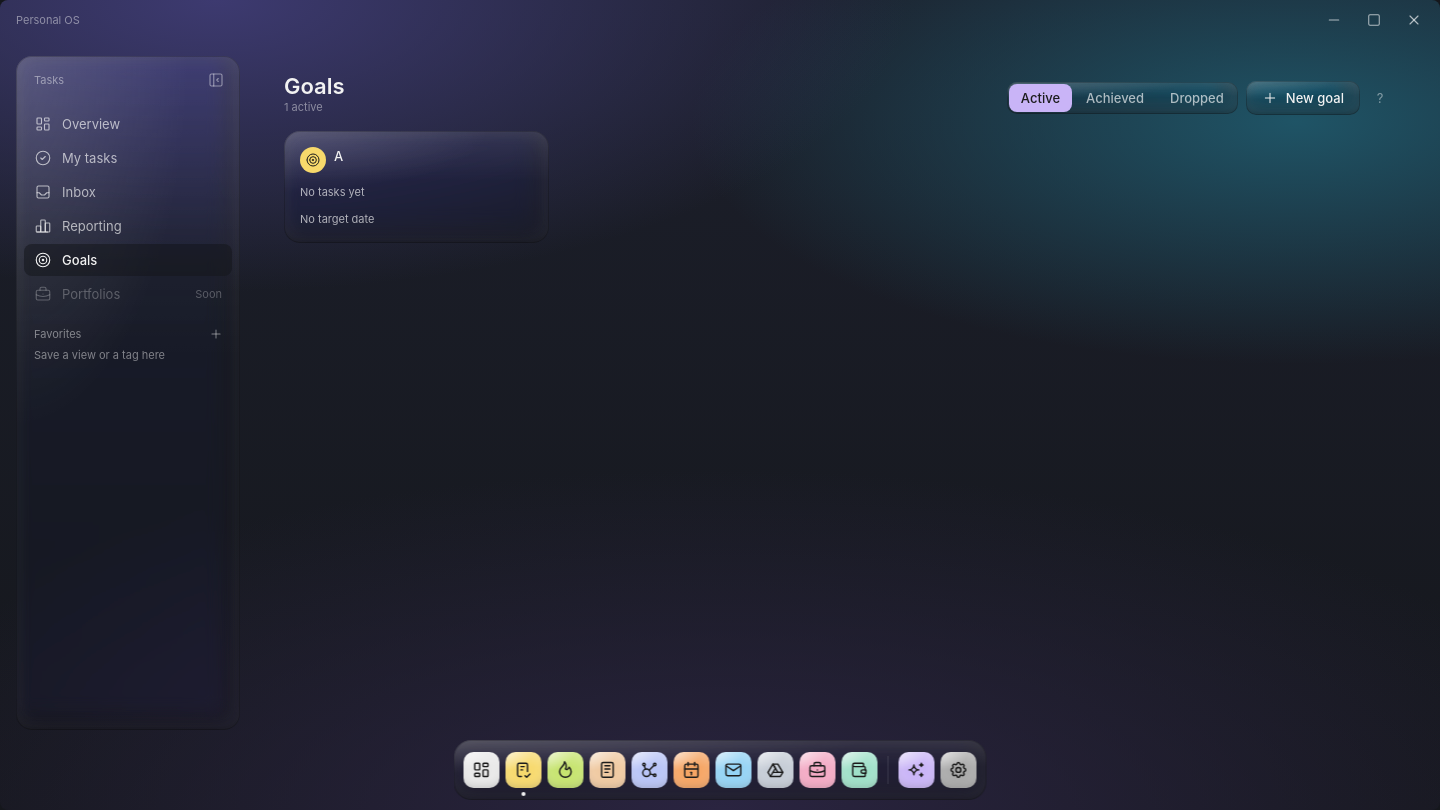
Test: header and tabs › switches the list with the tabs without asking the API again
expect the link "A" is shown: met, box [334,148,343,164]
Step 1. Click the radio button labelled "Achieved" → point(1115, 98), box [1074,84,1156,112]
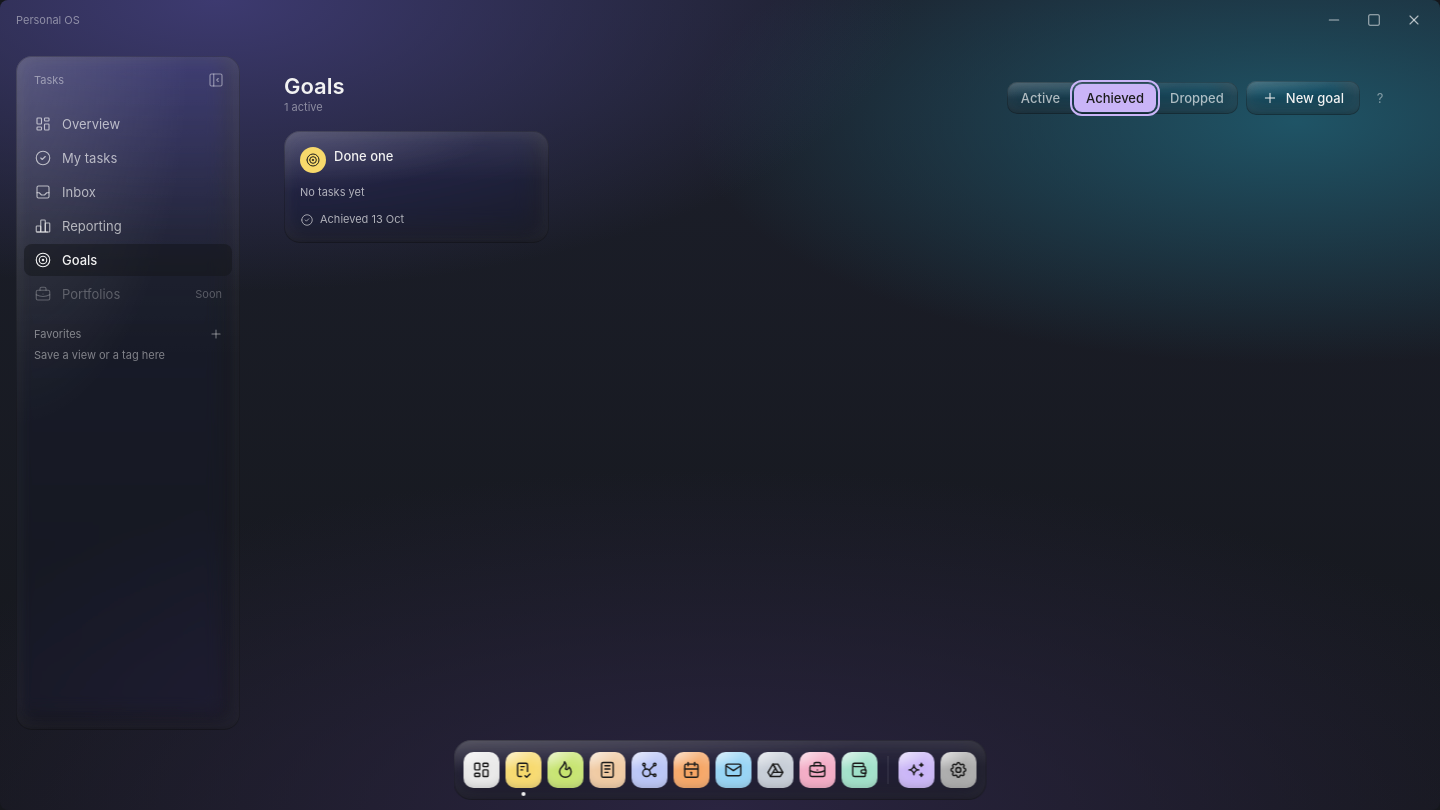
expect the link "Done one" is shown: met, box [334,148,394,164]
Step 2. Click the radio button labelled "Dropped" → point(1197, 98), box [1158,84,1236,112]
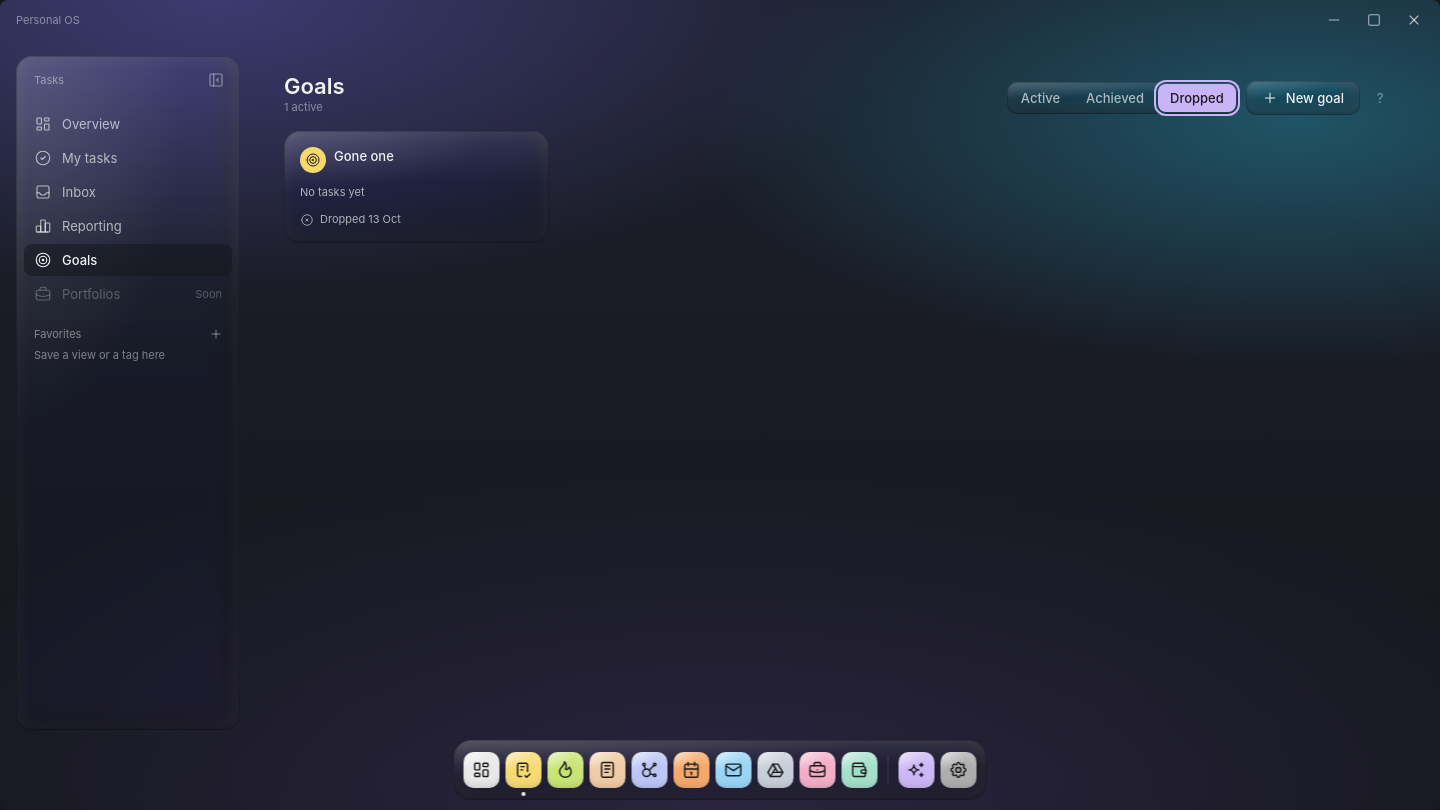
expect the link "Gone one" is shown: met, box [334,148,394,164]
